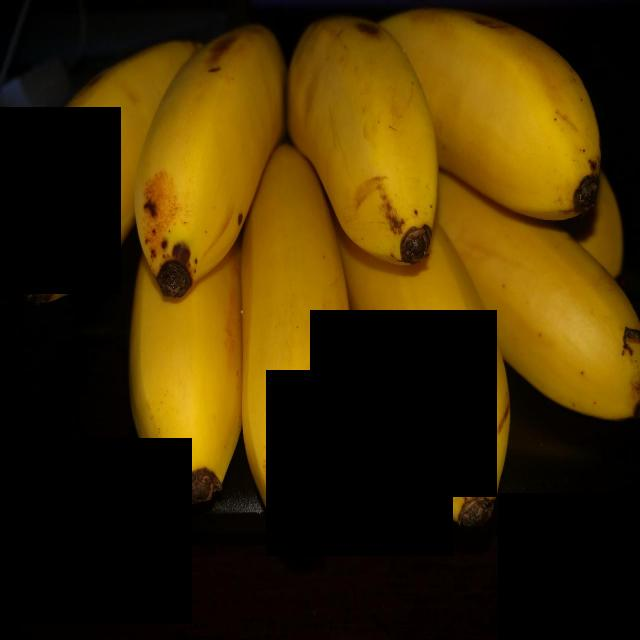banana: (346, 200, 525, 524), (388, 0, 606, 260), (11, 18, 187, 335), (444, 176, 640, 435), (243, 138, 360, 538), (132, 19, 290, 301), (289, 21, 451, 288), (294, 251, 300, 261)
